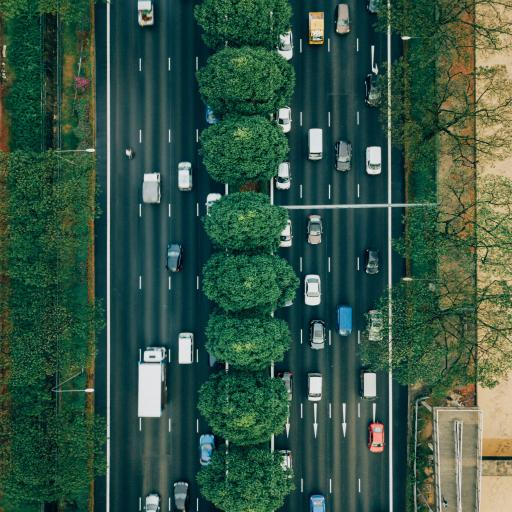car: (366, 74, 381, 106), (278, 31, 294, 61), (200, 434, 215, 466), (305, 275, 321, 305), (336, 141, 351, 171), (369, 423, 384, 452), (307, 215, 322, 244), (178, 162, 193, 191), (369, 310, 383, 341), (179, 333, 193, 364), (166, 244, 182, 271), (366, 147, 381, 175), (174, 482, 188, 511), (310, 321, 325, 348), (278, 372, 292, 400), (336, 4, 349, 34), (308, 374, 322, 401), (276, 162, 290, 189), (277, 107, 291, 132), (206, 193, 221, 216), (280, 219, 292, 247), (365, 250, 378, 274), (145, 494, 160, 511), (206, 105, 219, 124), (279, 451, 292, 470), (310, 495, 325, 511), (367, 0, 380, 13), (208, 353, 219, 367), (284, 300, 292, 306)
